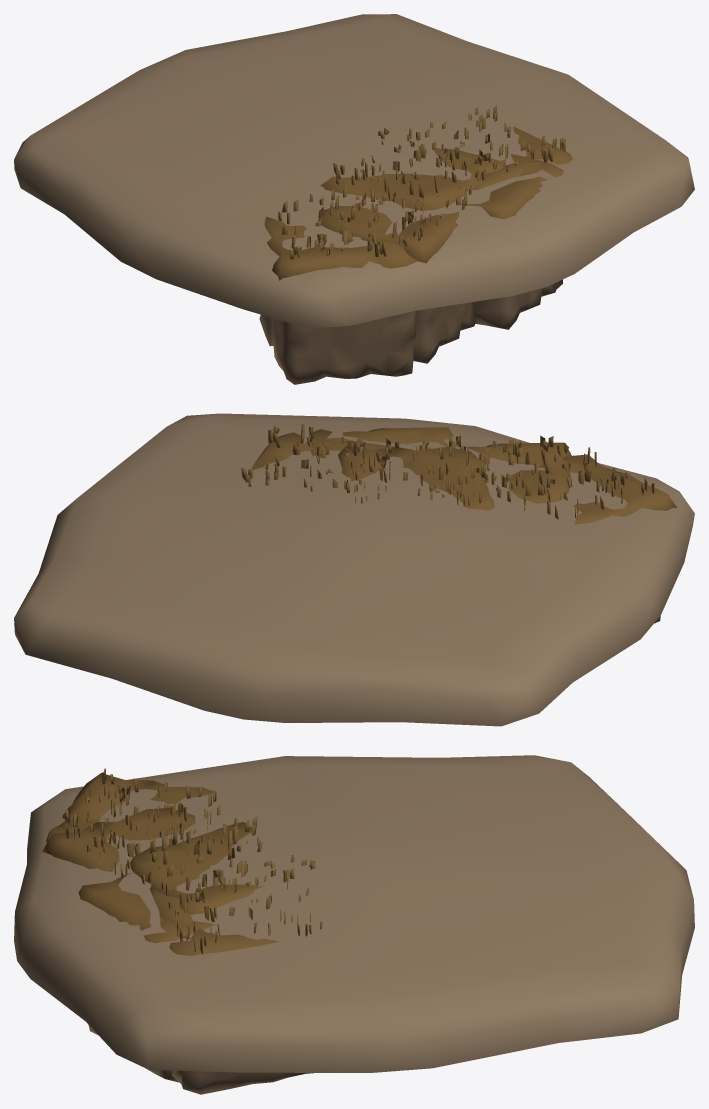
File: Island.fbx
3 views of the same model, one above another, from view 1: azimuth 30°, elevation 25°; view 2: azimuth 150°, elevation 25°; view 3: azimuth 270°, elevation 25° (orthographic). The views are drawn at different scales.
Parts seen in each view (by area): view 1: Plane.002, Tile_Rocky_01.061; view 2: Plane.002, Tile_Rocky_01.061; view 3: Plane.002, Tile_Rocky_01.061.
Boxes of the visible parts, x1=… form: Plane.002: x1=14, y1=14, x2=694, y2=328; Tile_Rocky_01.061: x1=259, y1=105, x2=572, y2=384; Plane.002: x1=14, y1=413, x2=694, y2=726; Tile_Rocky_01.061: x1=241, y1=424, x2=676, y2=623; Plane.002: x1=14, y1=755, x2=694, y2=1072; Tile_Rocky_01.061: x1=42, y1=768, x2=322, y2=1094.
Size of the model in its own units: 914 by 262 by 926.
